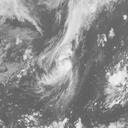cyclone: (37, 50, 73, 86)
